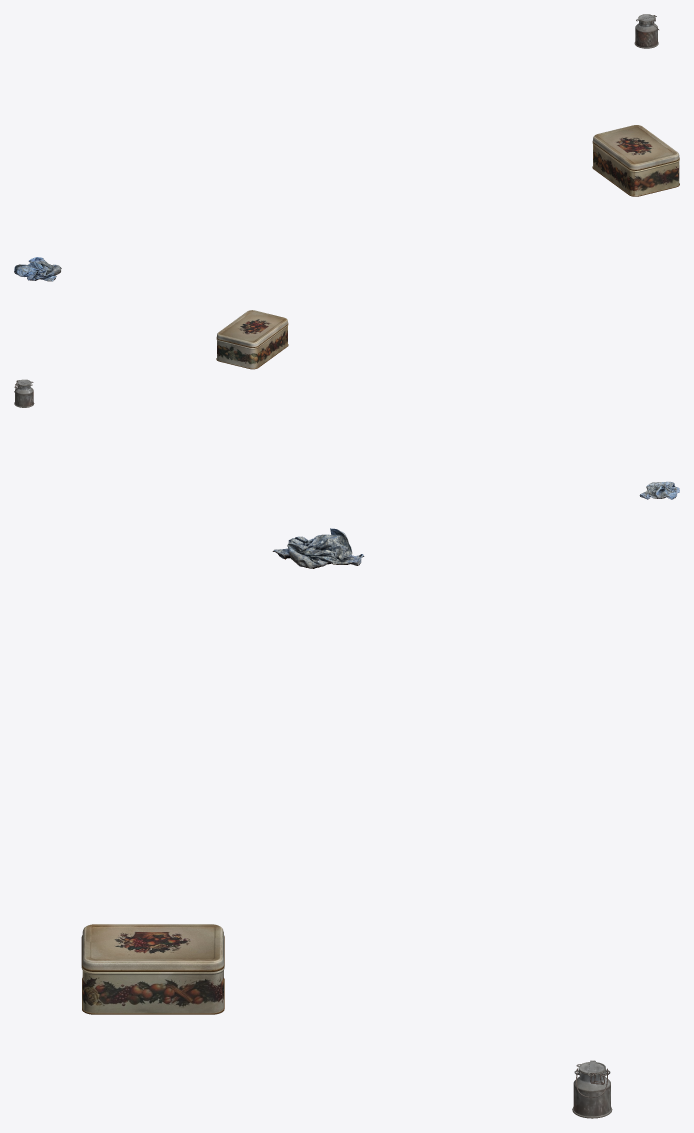
Rendered from Wrinkled Florarl Shirt.fbx.
3 renders of one model, top to bottom at view 1: azimuth 30°, elevation 25°; view 2: azimuth 150°, elevation 25°; view 3: azimuth 270°, elevation 25°, orthographic. The views are drawn at different scales.
Visible parts, largest first — view 1: Tin, fabric, MilkCan.001, Tin.001; view 2: Tin, fabric, Tin.001, MilkCan.001, MilkCan.002; view 3: Tin, Tin.001, fabric, MilkCan.001.
Boxes of the visible parts, bbox=[...] form: Tin: bbox=[592, 125, 679, 196]; fabric: bbox=[14, 257, 61, 281]; MilkCan.001: bbox=[634, 14, 658, 48]; Tin.001: bbox=[592, 125, 676, 192]; Tin: bbox=[216, 310, 288, 369]; fabric: bbox=[639, 481, 679, 499]; Tin.001: bbox=[218, 311, 287, 367]; MilkCan.001: bbox=[14, 379, 34, 407]; MilkCan.002: bbox=[14, 379, 33, 407]; Tin: bbox=[81, 924, 224, 1014]; Tin.001: bbox=[82, 924, 224, 1014]; fabric: bbox=[272, 528, 364, 568]; MilkCan.001: bbox=[572, 1060, 612, 1118].
Bounding box in the file's own units: 901 × 37.6 × 348.
Materials: 10 (10 with a texture image).
